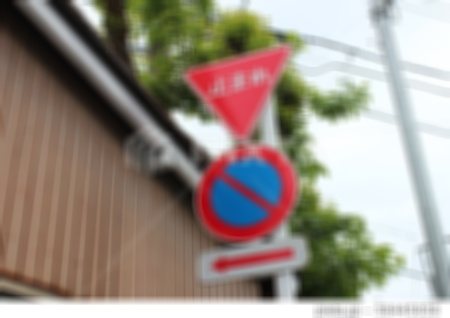Prohibition_sign: (190, 142, 300, 249)
